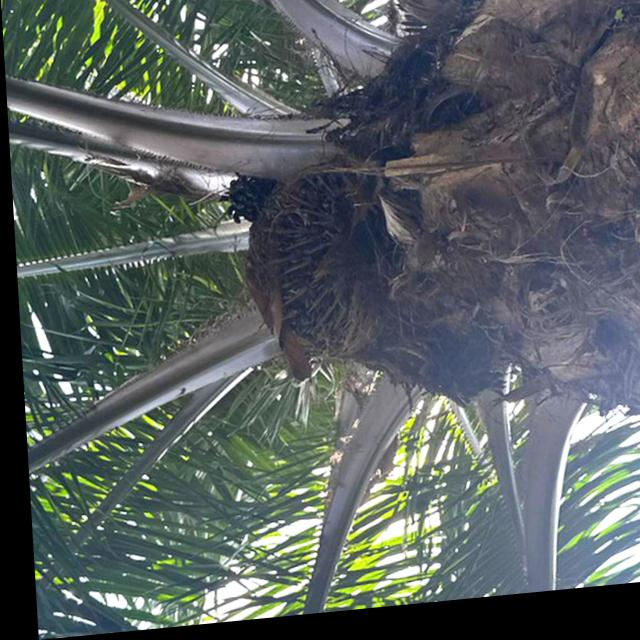ripe: (228, 158, 380, 384)
